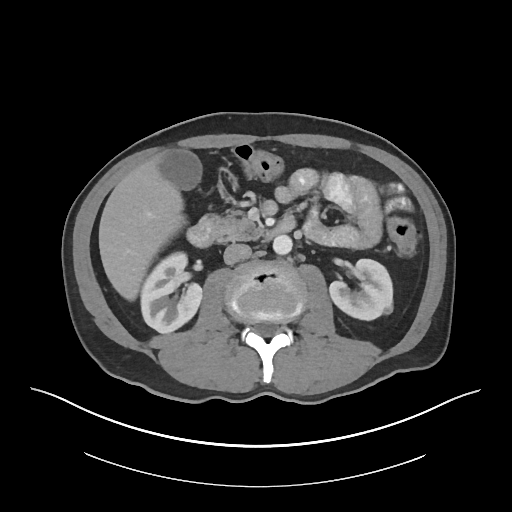Lesion: (377, 303, 398, 321)
